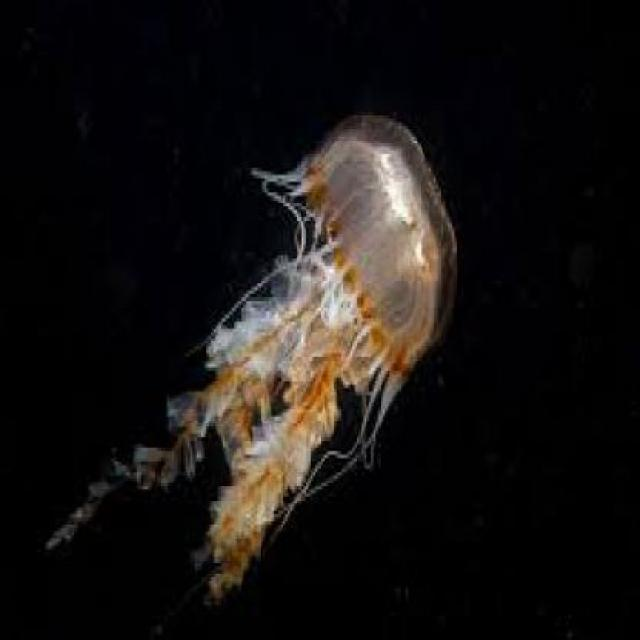Jellyfish: (76, 84, 462, 608)
